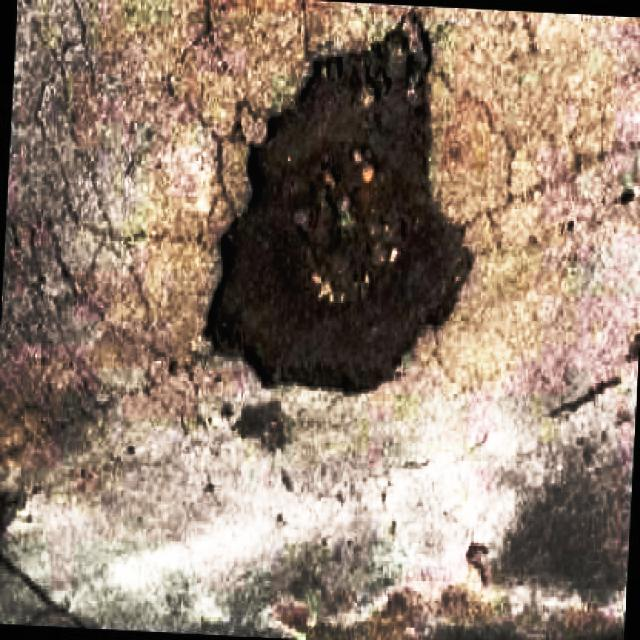pothole: (210, 16, 476, 396)
